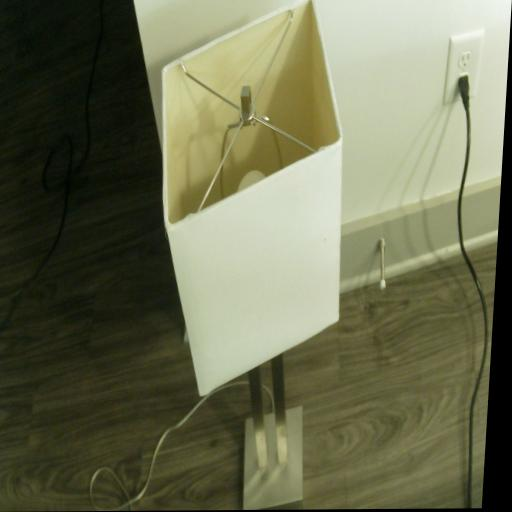lamp: (135, 0, 359, 511)
